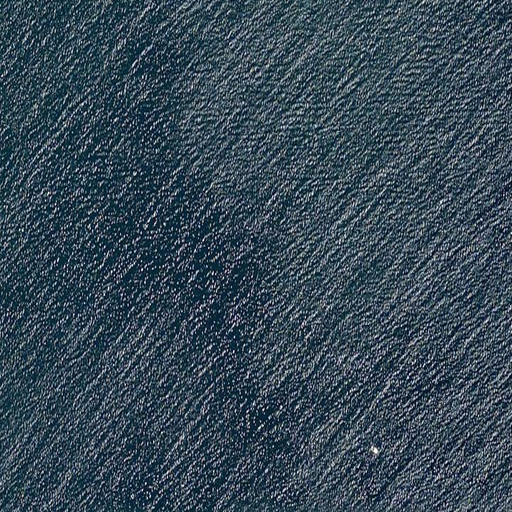ship: (369, 445, 381, 456)
